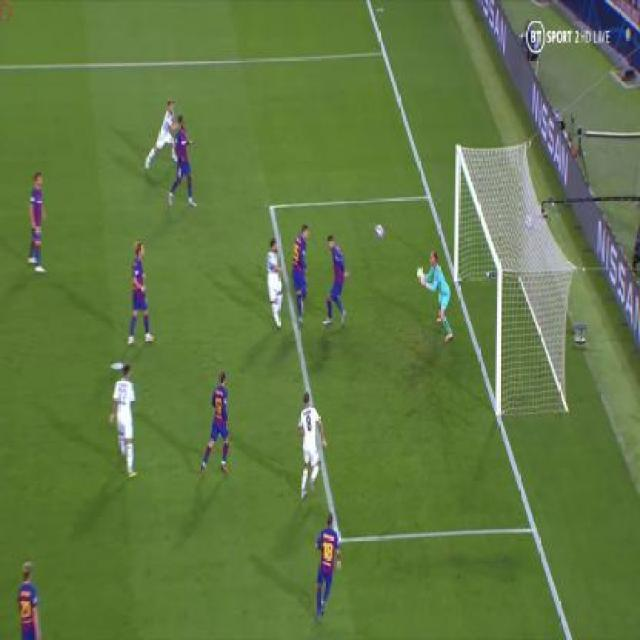ball: (372, 218, 388, 241)
player: (108, 359, 141, 475), (199, 371, 233, 479), (296, 393, 327, 501), (419, 249, 456, 337), (125, 240, 153, 346), (312, 512, 340, 617), (23, 168, 49, 273), (322, 231, 350, 328), (168, 112, 197, 205), (142, 99, 178, 172), (290, 219, 313, 321), (13, 559, 41, 639), (263, 236, 286, 329)
